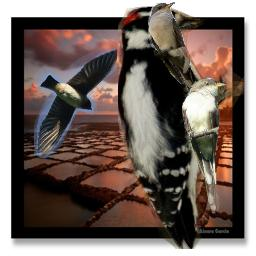Cuckoo: (148, 2, 210, 106), (182, 77, 226, 214)
Swallow: (34, 47, 117, 158)
Woodpecker: (118, 6, 244, 249)
